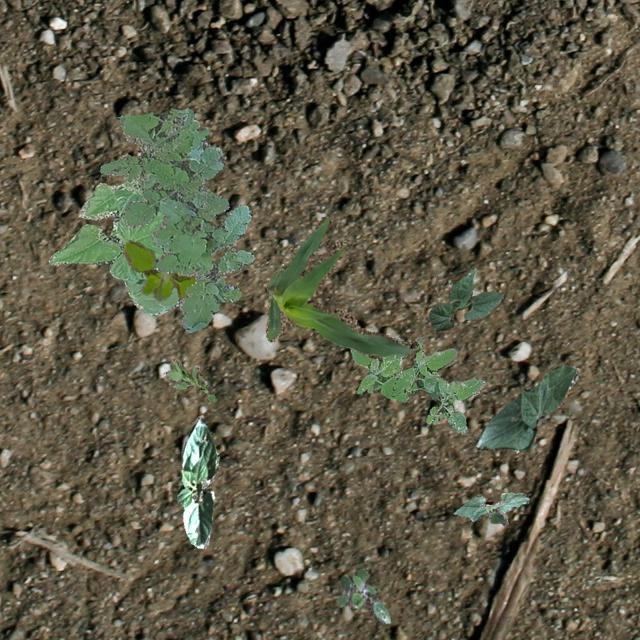crop: (262, 215, 418, 358), (48, 175, 180, 314), (473, 364, 578, 448), (176, 417, 218, 548), (428, 268, 502, 330), (452, 492, 528, 524)
weed: (99, 108, 252, 332), (350, 336, 486, 432), (122, 240, 194, 300), (336, 566, 390, 622), (164, 358, 216, 400)
